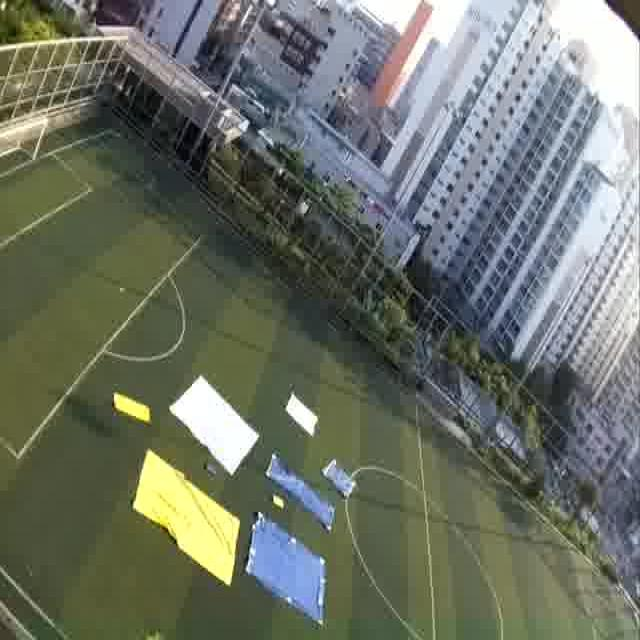danger: (247, 544, 332, 606), (326, 456, 356, 499), (265, 462, 306, 493)
safety: (194, 400, 248, 456), (289, 403, 315, 433)
warning: (156, 491, 236, 564), (116, 396, 150, 427)
